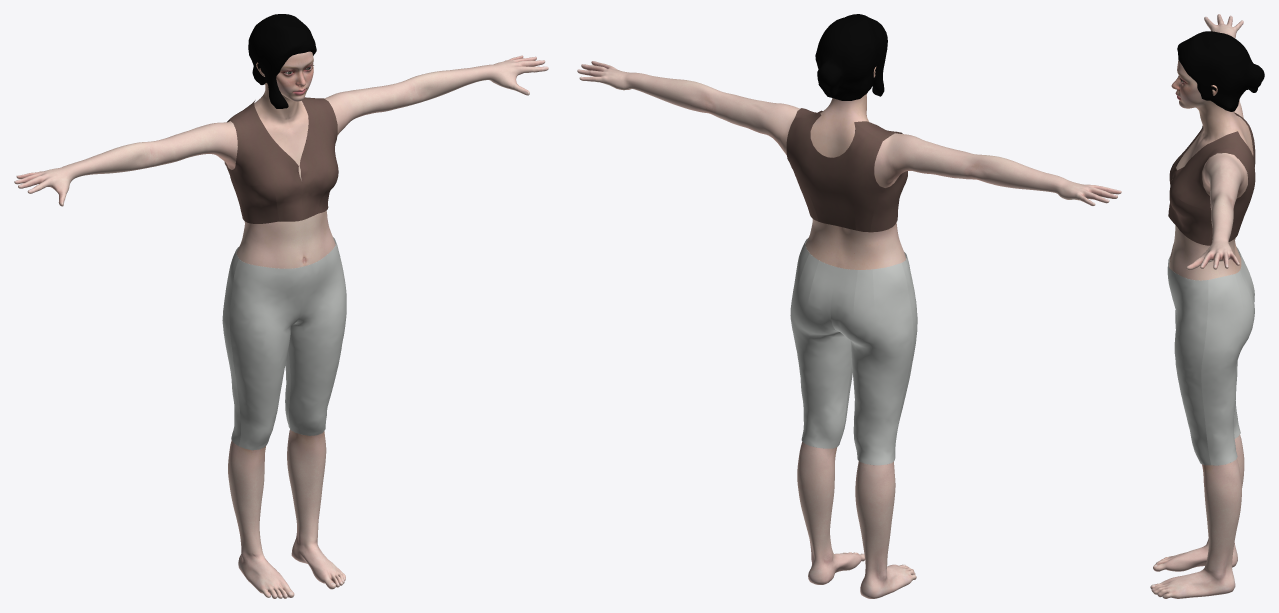
File: random.obj
3 views of the same model, side by side, from view 1: azimuth 30°, elevation 25°; view 2: azimuth 150°, elevation 25°; view 3: azimuth 270°, elevation 25° (orthographic). The views are drawn at different scales.
Bounding box in the file's own units: 1746 × 1761 × 334.
